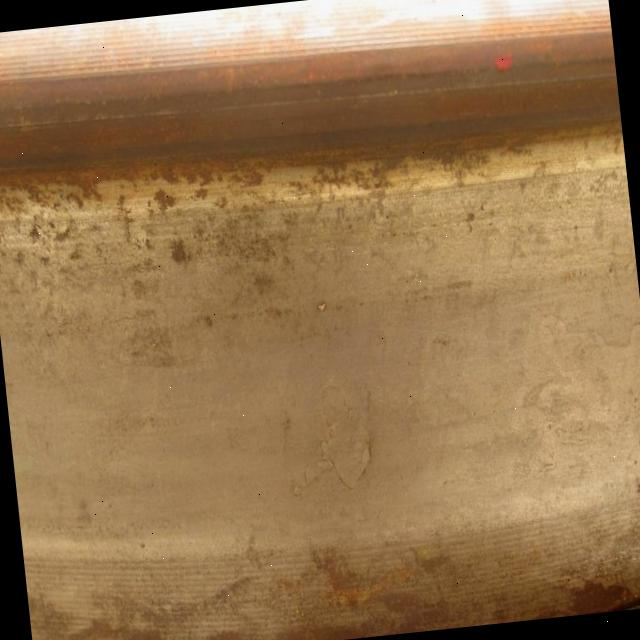Blue hole: (316, 296, 329, 317)
Contact_Fatigue_Cracks: (281, 375, 384, 498)
